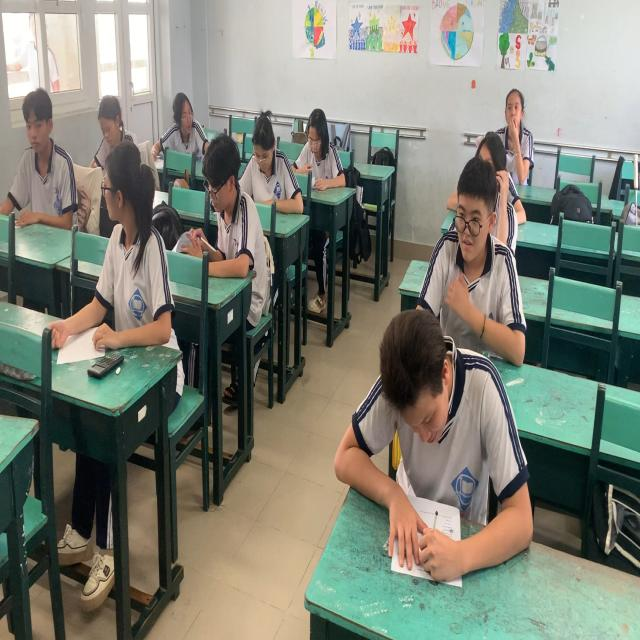cheating: (96, 138, 170, 374), (160, 69, 218, 171)
not_cheating: (372, 300, 502, 520), (12, 81, 80, 251), (439, 142, 508, 308), (248, 105, 316, 255), (204, 137, 264, 304), (474, 76, 552, 175), (303, 81, 360, 208), (92, 84, 150, 191)
